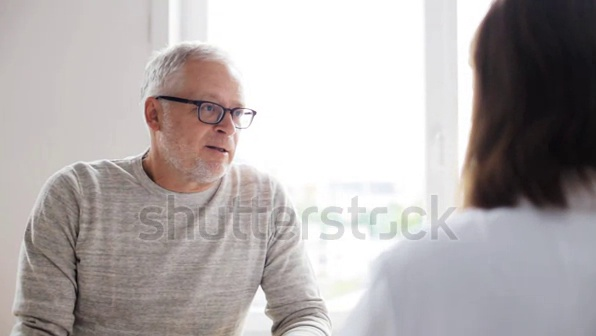No Mask: (134, 47, 257, 184)
